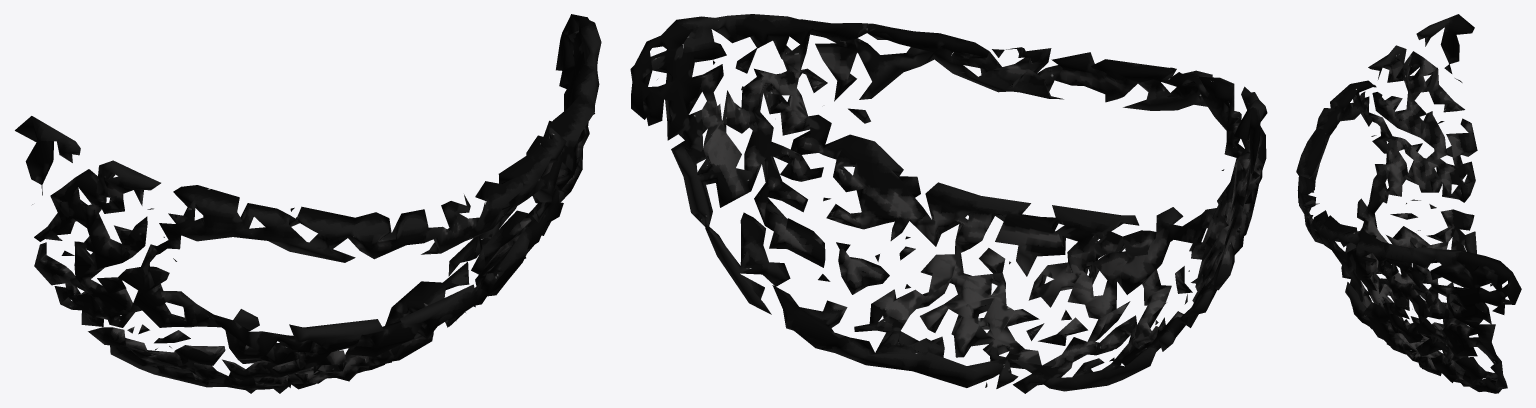
The model's file is flat beard.glb.
The picture shows the model from 3 angles, left to right: view 1: azimuth 30°, elevation 25°; view 2: azimuth 150°, elevation 25°; view 3: azimuth 270°, elevation 25°; orthographic projection. The views are drawn at different scales.
Visible parts, largest first — view 1: beard_flat.001; view 2: beard_flat.001; view 3: beard_flat.001.
Part boxes in pixels (x1=…): beard_flat.001: x1=15, y1=14, x2=601, y2=393; beard_flat.001: x1=630, y1=14, x2=1267, y2=393; beard_flat.001: x1=1296, y1=14, x2=1521, y2=393.
Bounding box in the file's own units: 0.3255 × 0.1798 × 0.1468.
Materials: 1 (1 with a texture image).
